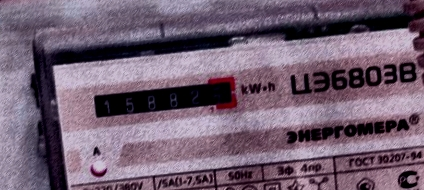1: (99, 95, 110, 113)
2: (186, 85, 198, 104)
5: (121, 94, 133, 112)
7: (209, 90, 220, 102)
8: (141, 91, 155, 109), (164, 88, 177, 107)
screen: (82, 71, 240, 125)
